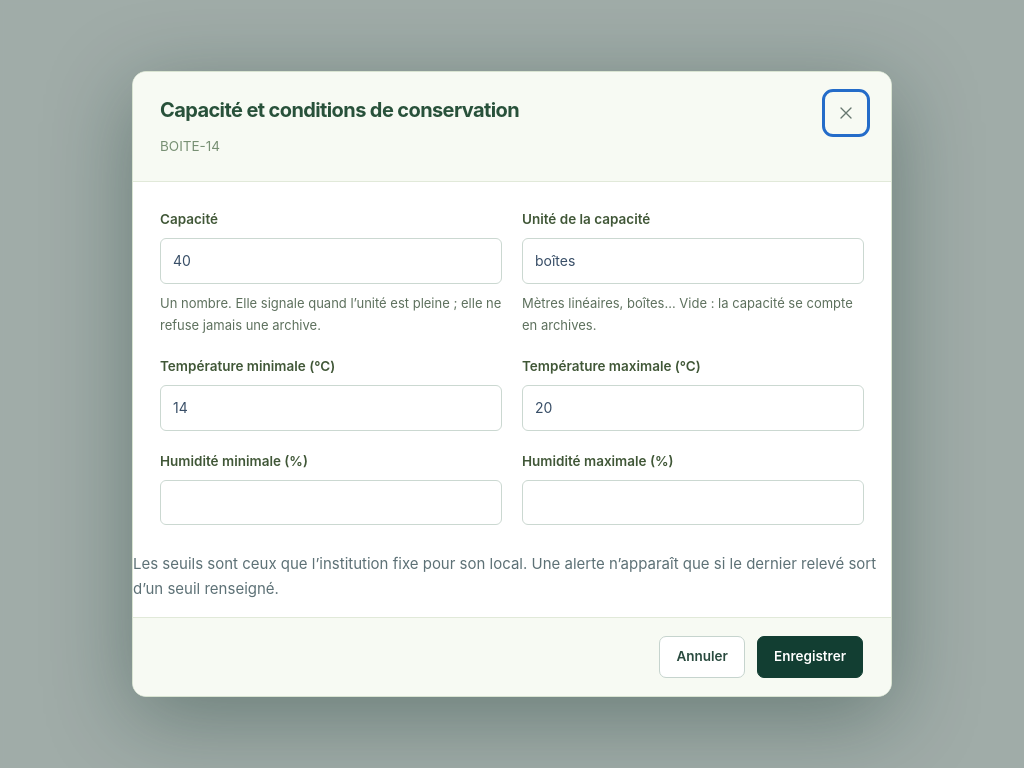
it: des seuils incohérents bloquent l’enregistrement et sont dits ; un refus du serveur est dit aussi
Replace the text in the field labelled "Température minimale (°C)" with "25" at [331, 408], box [160,385,502,431]
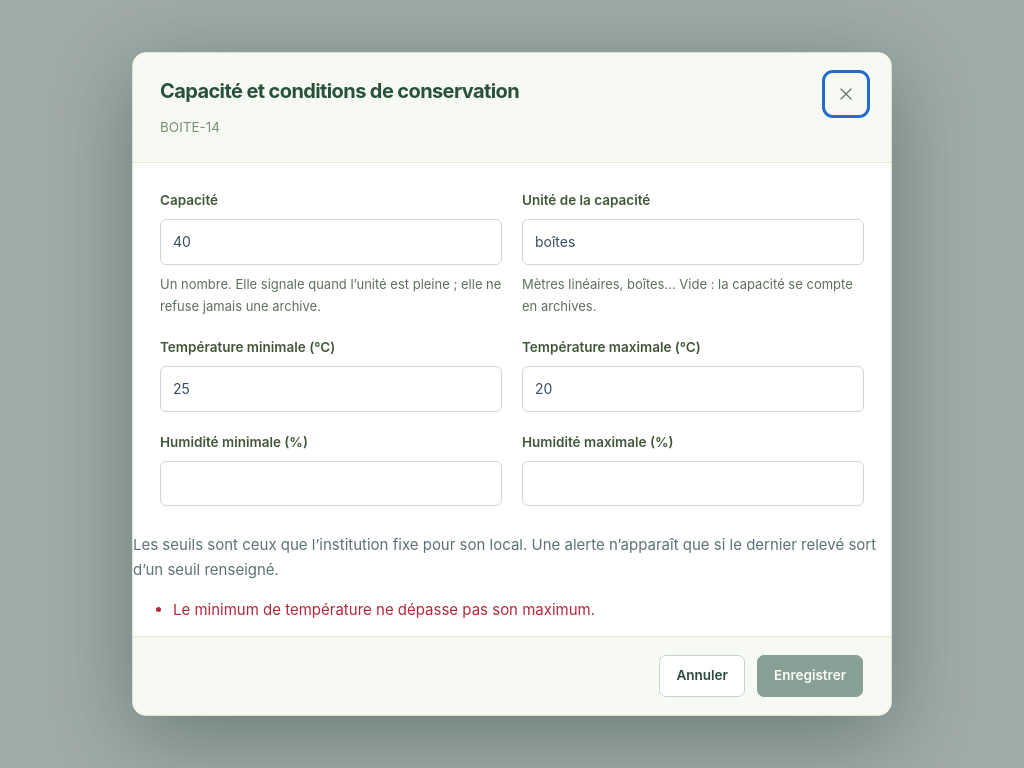
Now the list item "Le minimum de température ne dépasse pas son maximum." is shown, box [173,600,595,619]
Now the button "Enregistrer" is disabled, box [757,655,863,697]
Replace the text in the field labelled "Température minimale (°C)" with "15" at [331, 389], box [160,366,502,412]
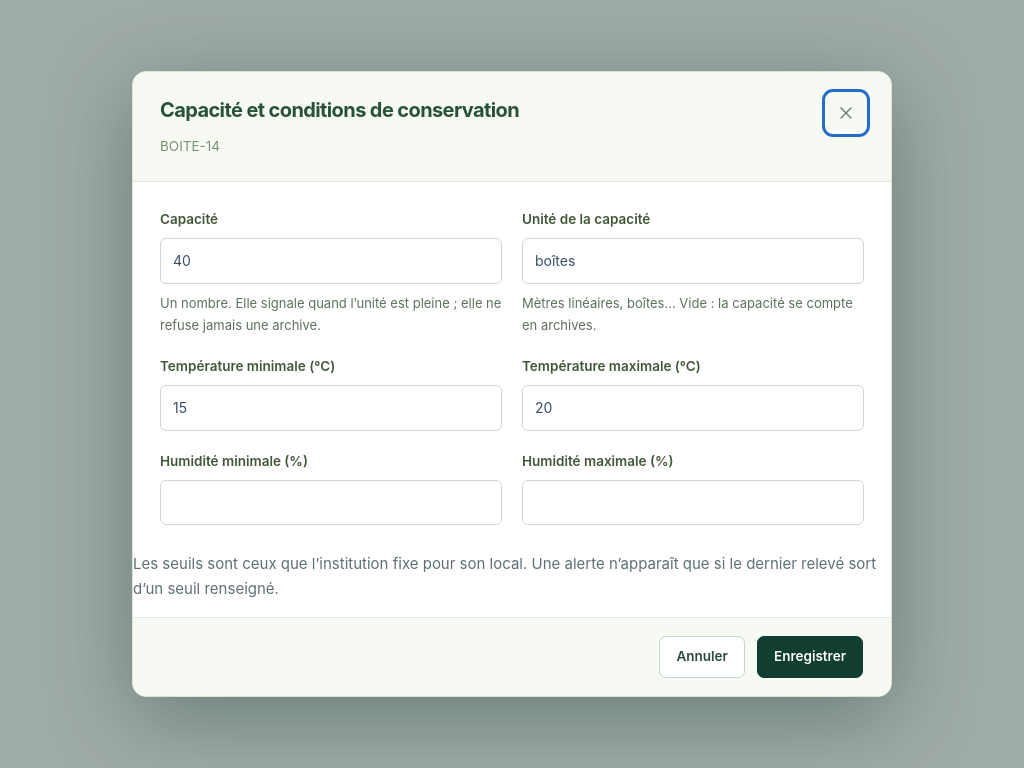
Click the button "Enregistrer".
click(810, 657)  # box [757,636,863,678]
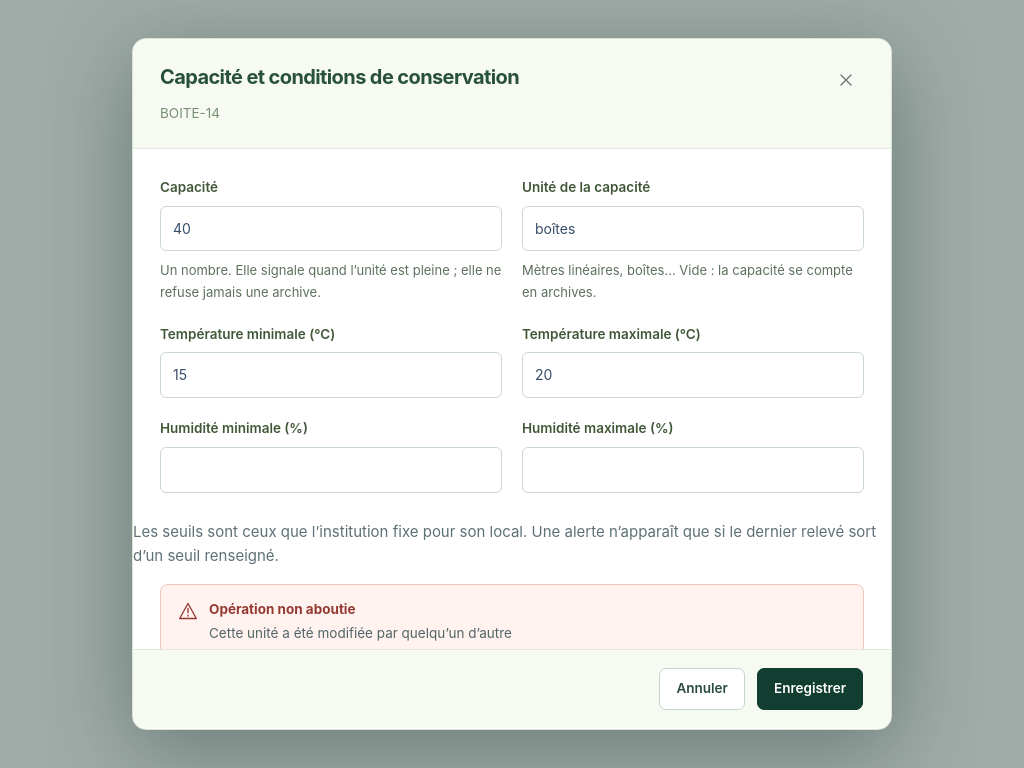
Now the button "Enregistrer" is enabled, box [757,669,863,711]
Now the text "Cette unité a été modifiée par quelqu’un d’autre" is shown, box [209,621,512,645]
